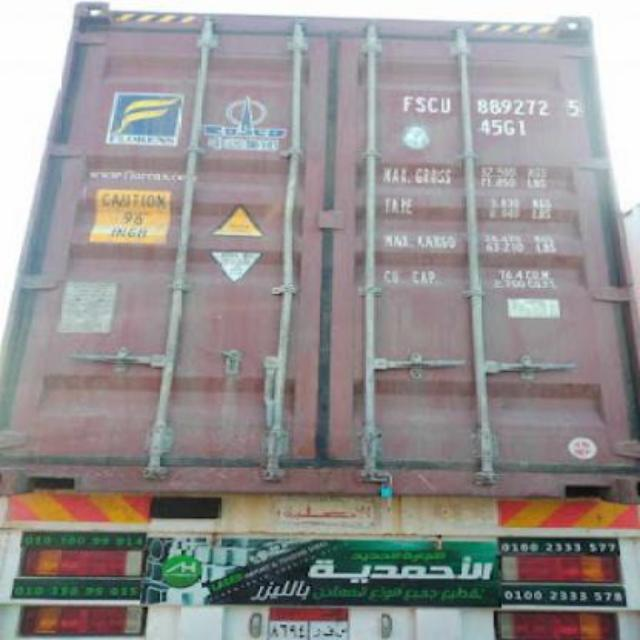2: (536, 95, 552, 121), (510, 97, 526, 115)
5: (566, 98, 588, 119)
7: (524, 95, 536, 118)
8: (488, 99, 502, 115), (478, 95, 486, 115)
9: (502, 97, 510, 113)
C: (424, 94, 438, 112)
F: (404, 94, 412, 114)
S: (416, 96, 426, 114)
U: (440, 94, 452, 118)
